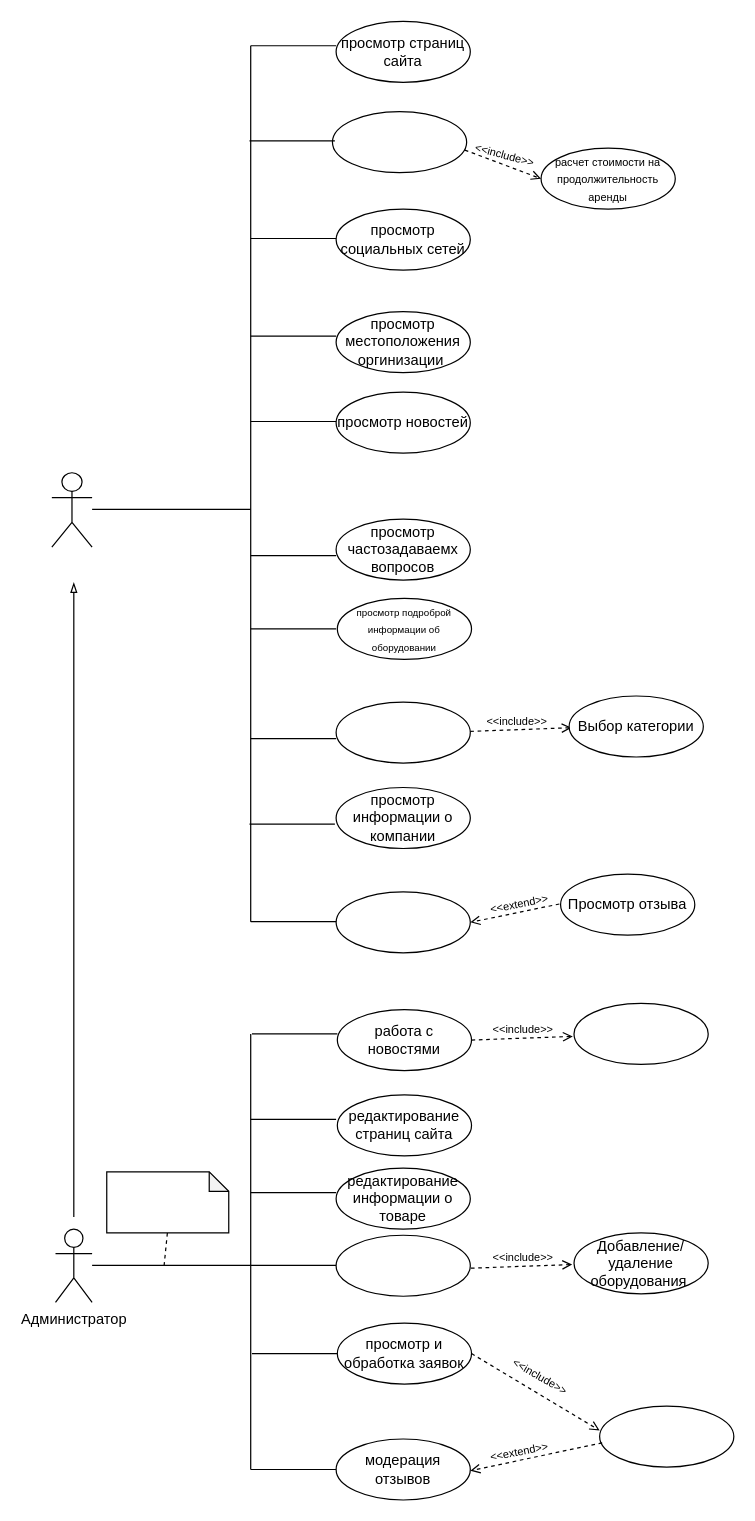
This 755x1521 diagram has some shape labels left out. The box of each missing label's shape, as (x1, y1, x2, y2) in pixels:
Гость: (51, 472, 92, 547)
Добавление отзыва: (335, 891, 470, 953)
Добавление/удаление/редактирвоание новостей: (573, 1002, 708, 1064)
Доступно после авторизации: (106, 1171, 229, 1233)
написание ответа пользователю: (598, 1405, 734, 1467)
Онлайн бронирование: (331, 110, 467, 173)
применение фильтра: (335, 701, 470, 763)
работа с каталогом: (335, 1234, 470, 1296)
